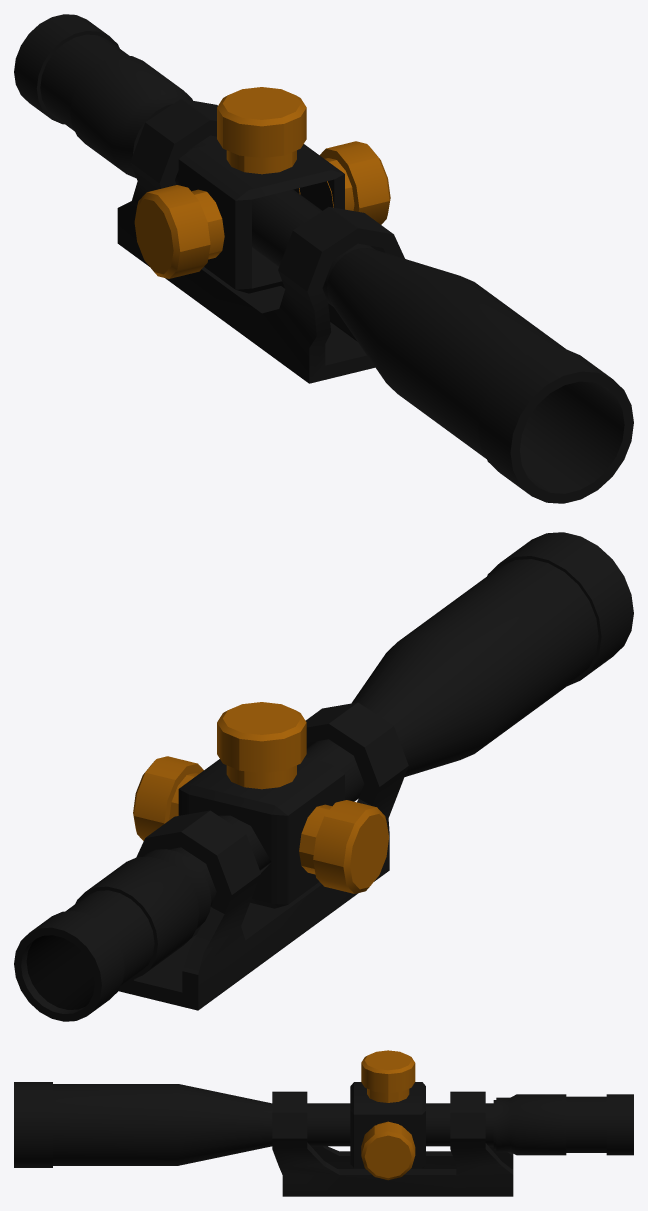
The model's file is scope_5.fbx.
The picture shows the model from 3 angles, top to bottom: view 1: azimuth 30°, elevation 25°; view 2: azimuth 150°, elevation 25°; view 3: azimuth 270°, elevation 25°; orthographic projection. The views are drawn at different scales.
Visible parts, largest first — view 1: scope_5; view 2: scope_5; view 3: scope_5.
Part boxes in pixels (bbox=[...]): scope_5: bbox=[14, 14, 633, 503]; scope_5: bbox=[14, 532, 633, 1021]; scope_5: bbox=[14, 1050, 633, 1196].
Size of the model in its own units: 402 by 365 by 1649.
